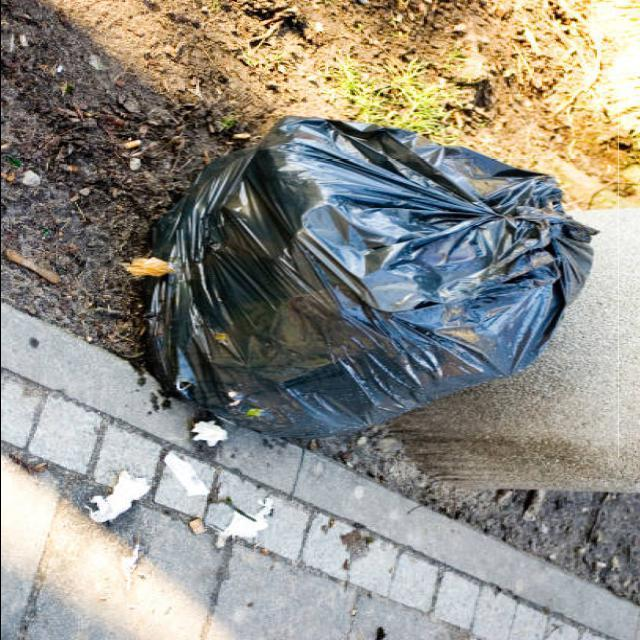Trashbag: (130, 94, 586, 428)
